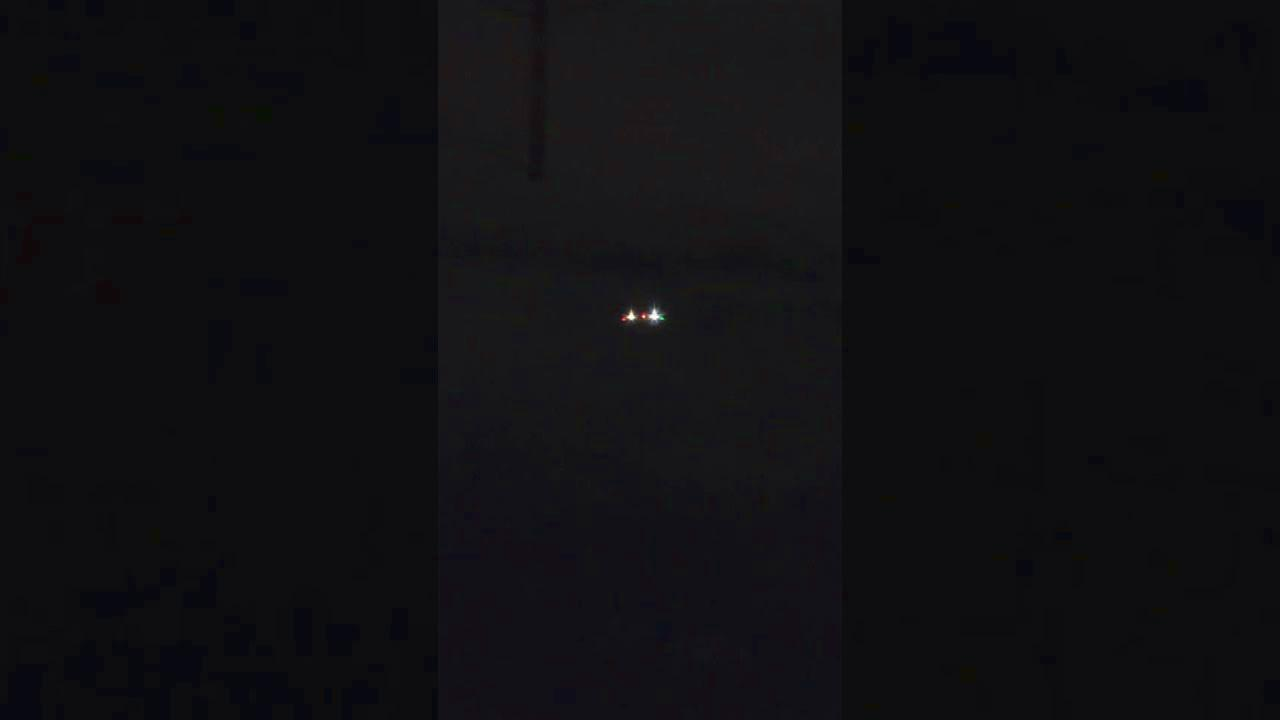Plane: (580, 288, 702, 348)
